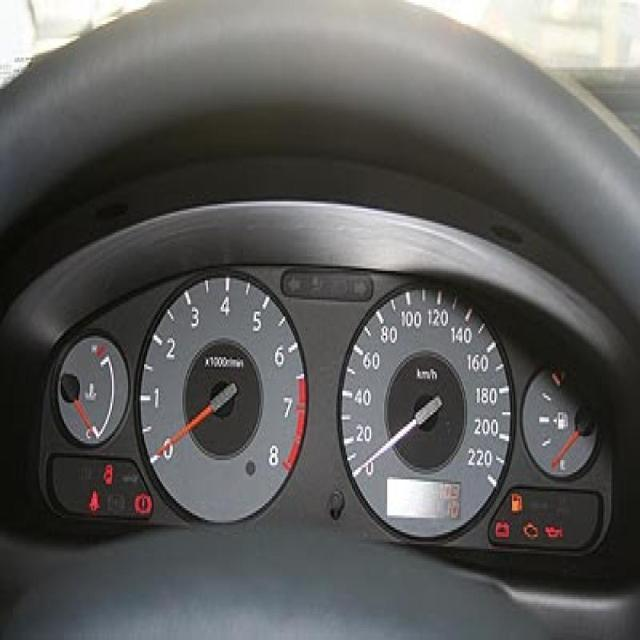Seat Belt: (88, 490, 100, 513)
